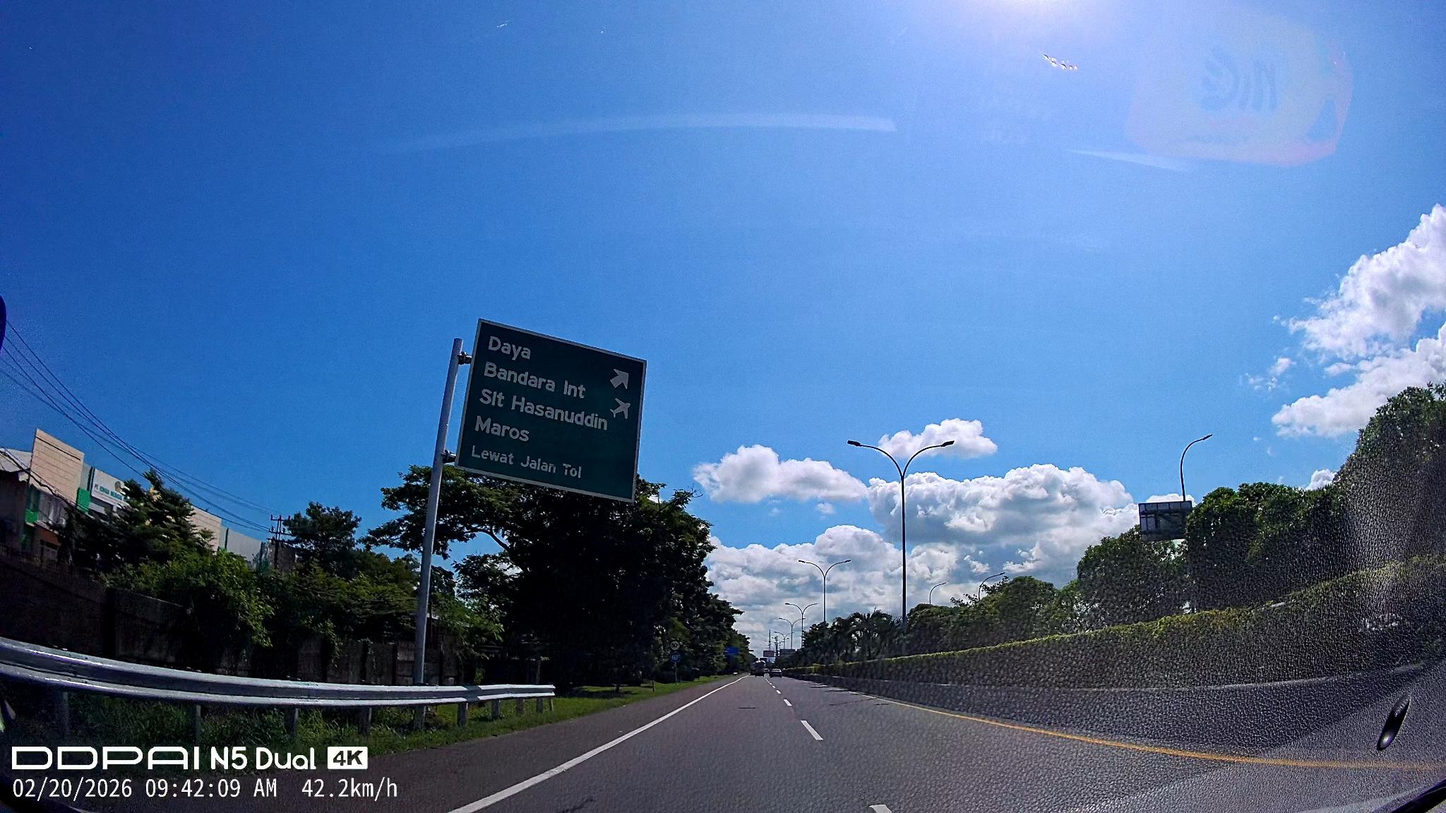rambu_teks: (468, 317, 642, 506)
